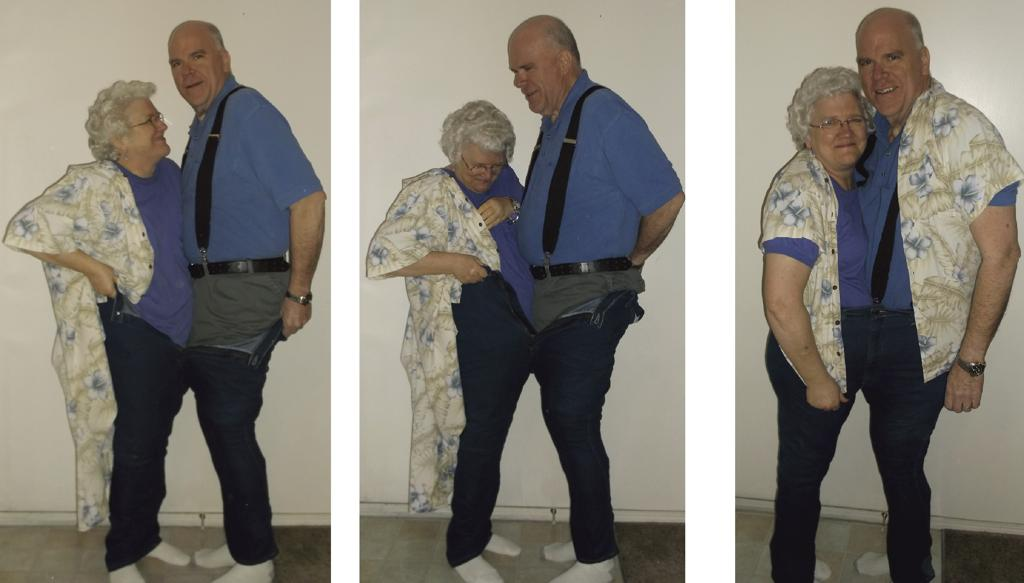face: (856, 29, 921, 116), (810, 91, 866, 165), (168, 27, 222, 103), (507, 39, 562, 113), (124, 97, 170, 156), (455, 139, 504, 192)
